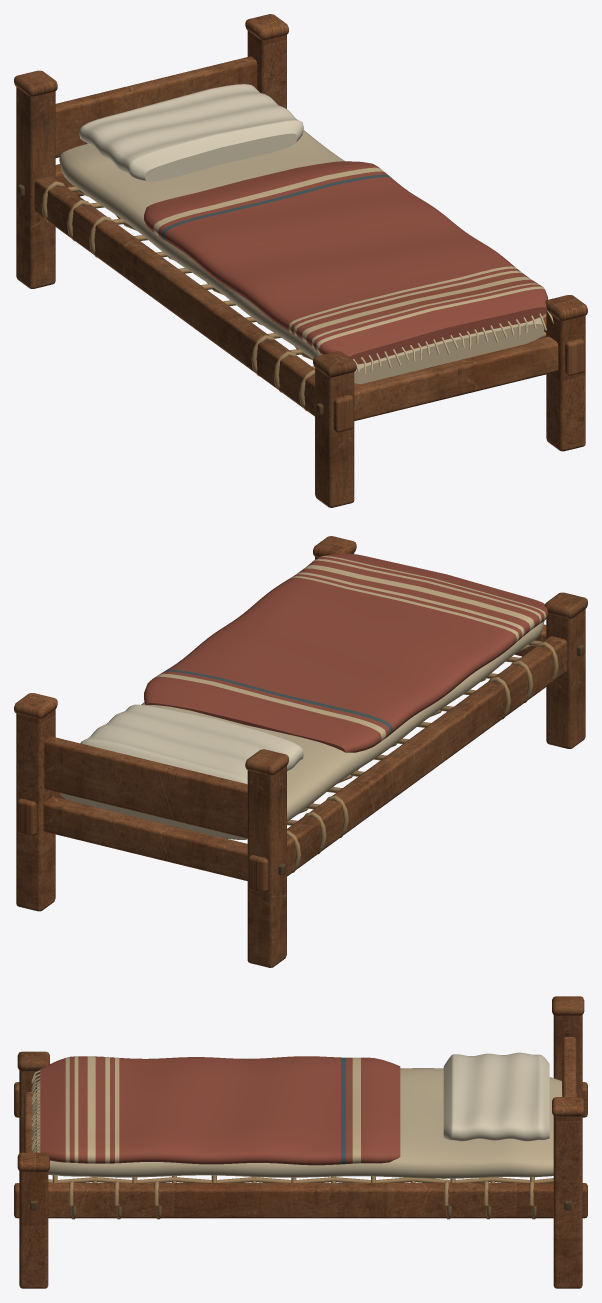
The model's file is camp_rope_bed.glb.
3 renders of one model, top to bottom at view 1: azimuth 30°, elevation 25°; view 2: azimuth 150°, elevation 25°; view 3: azimuth 270°, elevation 25°, orthographic. The views are drawn at different scales.
Visible parts, largest first — view 1: CampRopeBed; view 2: CampRopeBed; view 3: CampRopeBed.
Boxes of the visible parts, x1=… form: CampRopeBed: x1=14, y1=14, x2=587, y2=507; CampRopeBed: x1=14, y1=536, x2=587, y2=967; CampRopeBed: x1=14, y1=996, x2=587, y2=1288.
Size of the model in its own units: 0.964 by 0.7085 by 2.02.
Materials: 8 (1 with a texture image).
